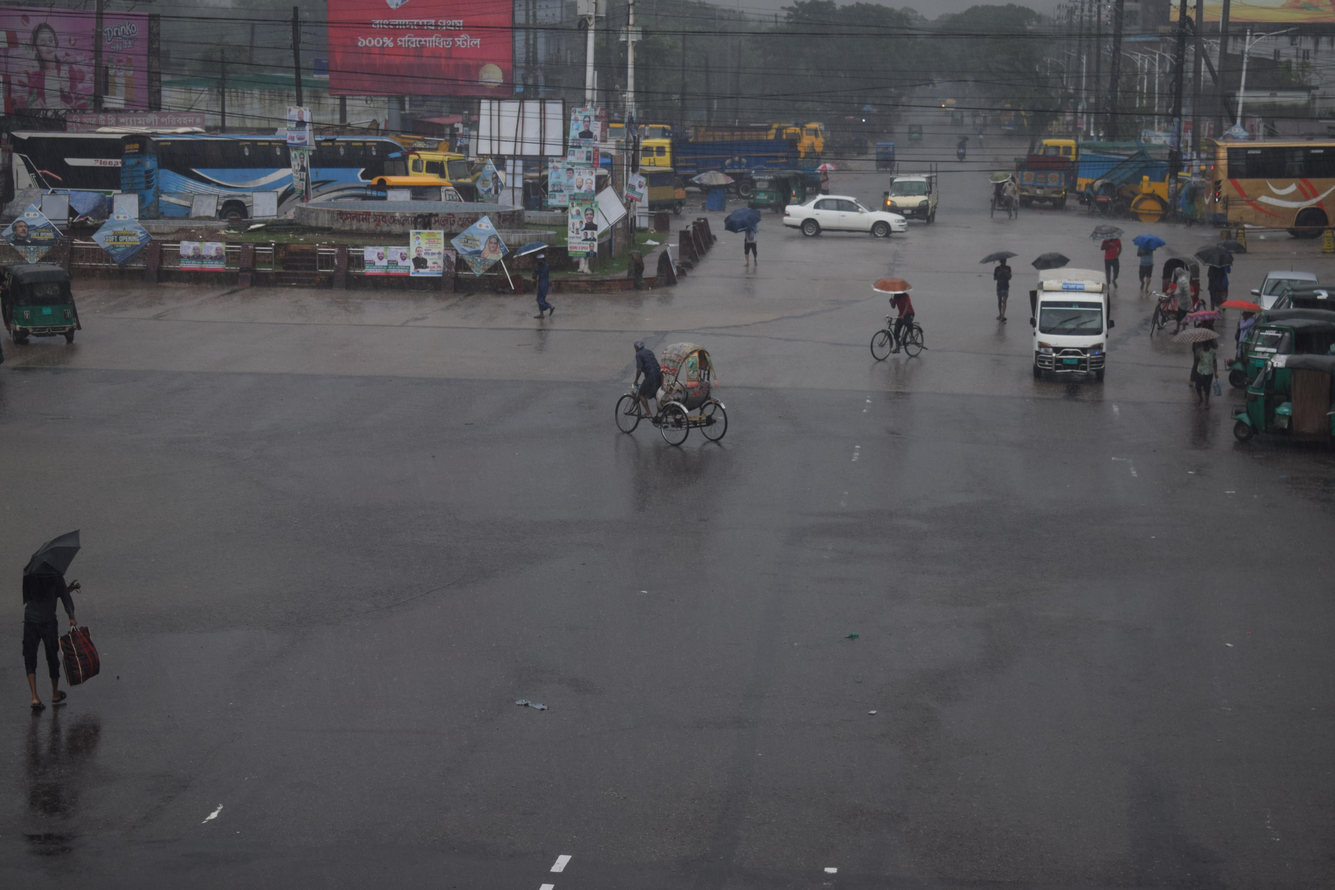Bike: (841, 253, 964, 381), (944, 121, 982, 168)
Bus: (117, 103, 438, 257), (0, 90, 278, 246), (1189, 114, 1335, 260)
Car: (572, 296, 763, 496), (1010, 236, 1142, 433), (756, 168, 929, 268), (872, 139, 944, 235), (978, 170, 1036, 236)
Truck: (619, 119, 823, 216), (388, 121, 502, 222), (1003, 142, 1085, 228)
